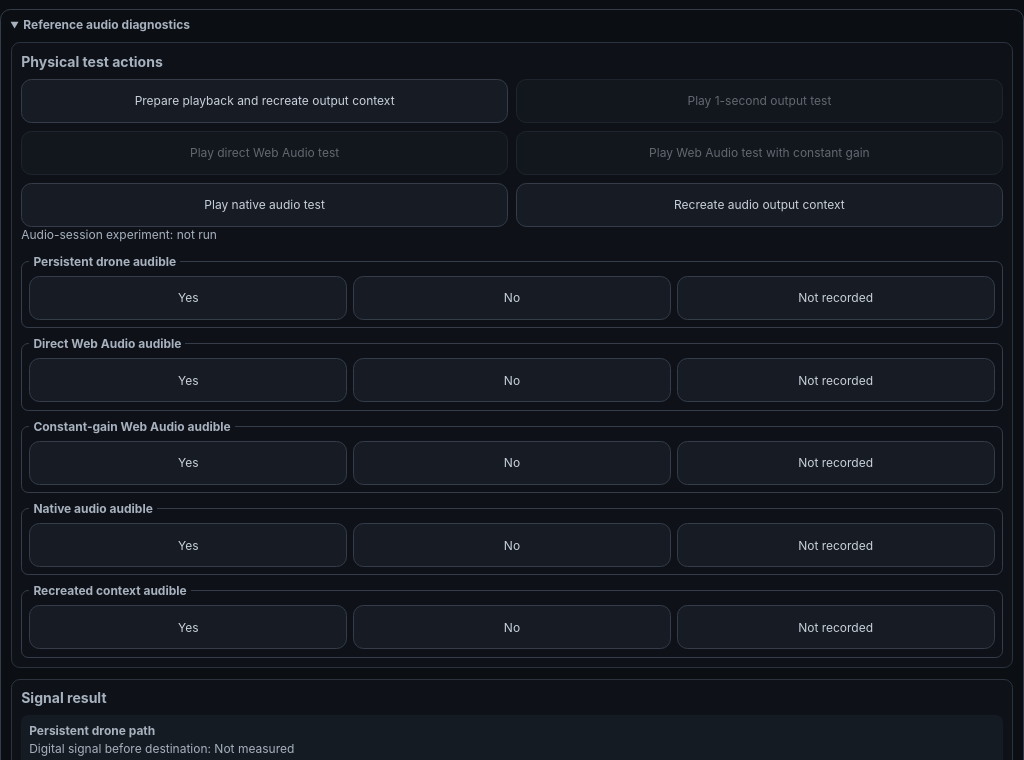
Test: ReferenceDroneDiagnostics › keeps AudioSession preparation behind an explicit diagnostic action
Click the button "Prepare playback and recreate output context" at (265, 101), box [21,79,508,123]
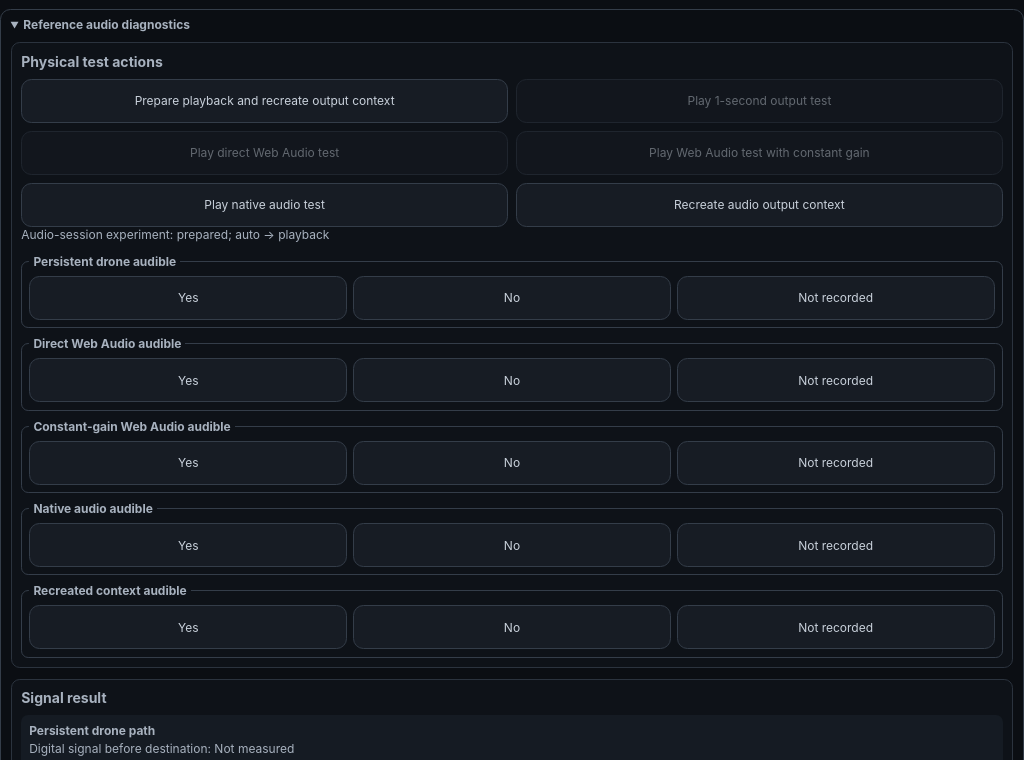
Check: the text named "Audio-session experiment result" shows "prepared; auto → playback", box [177,227,329,242]
